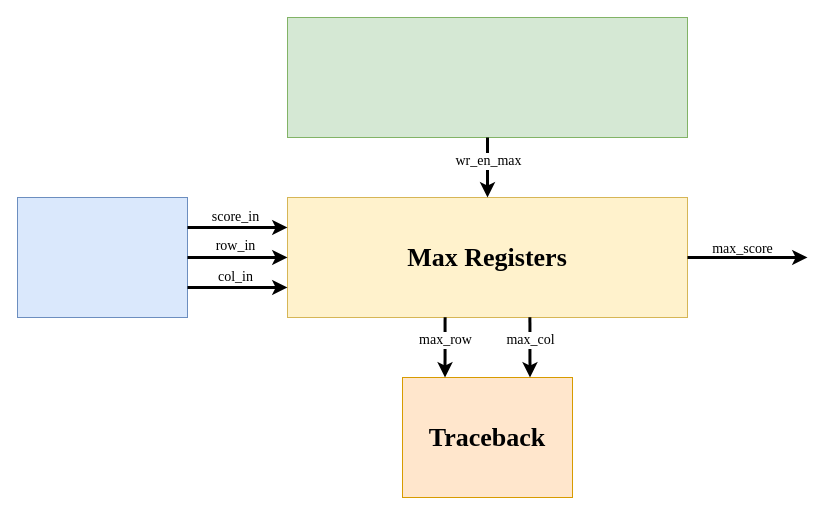
The diagram is 834 pixels wide and 515 high, and some of its shapes have lost their labels. The shapes that lost their labels are listed below. From the top down, each one's centre as x and y in pixels, then its label:
[487,77]: Controller
[102,257]: Matrix Calculation
